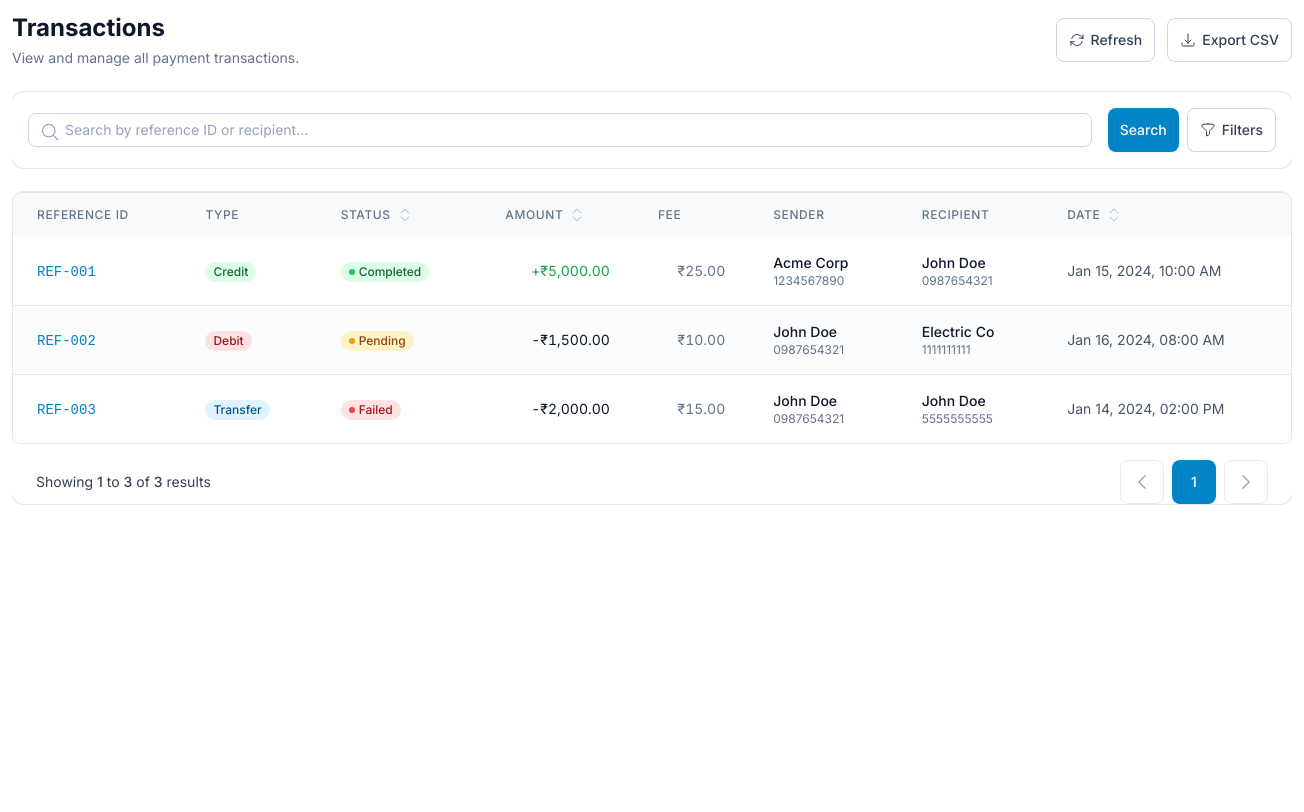
Test: Transactions Page › opens filters panel on button click
Click the button "Filters" at (1231, 130), box [1187,108,1276,152]
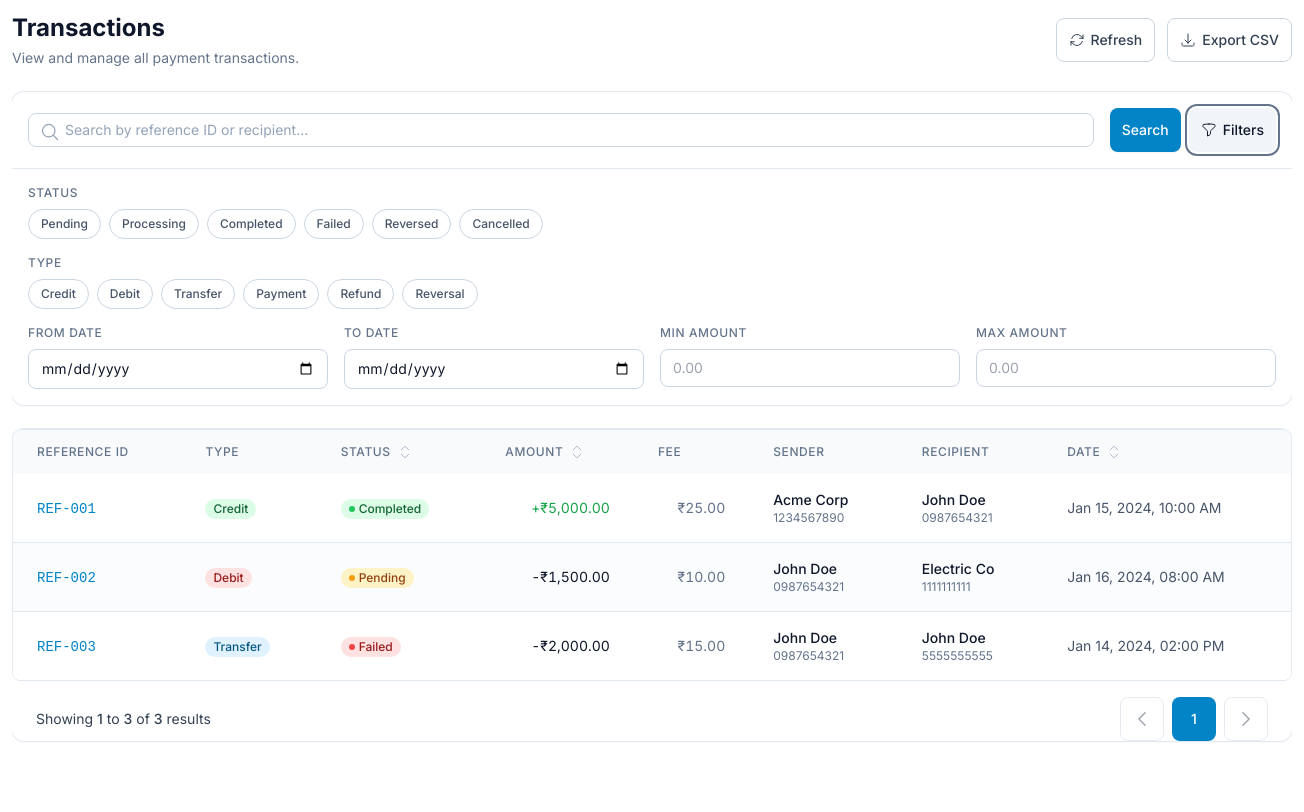
Expected: the button "Processing" is shown, [109,209,199,239]
Expected: the button "Reversed" is shown, [372,209,451,239]
Expected: the button "Cancelled" is shown, [459,209,543,239]
